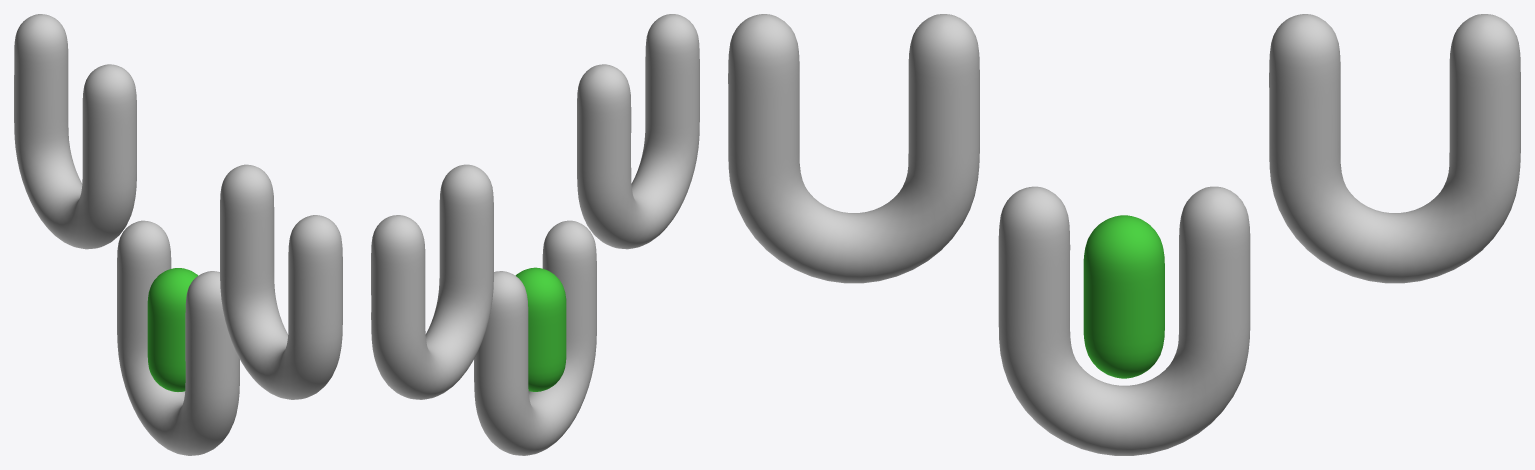
The model's file is Head8.fbx.
The picture shows the model from 3 angles, left to right: view 1: azimuth 30°, elevation 25°; view 2: azimuth 150°, elevation 25°; view 3: azimuth 270°, elevation 25°; orthographic projection. The views are drawn at different scales.
Parts seen in each view (by area): view 1: Head8U1, Head8U3, Head8U2, Head8Capsule; view 2: Head8U1, Head8U3, Head8U2, Head8Capsule; view 3: Head8U1, Head8U3, Head8U2, Head8Capsule.
Part boxes in pixels (x1=…): Head8U1: x1=14, y1=14, x2=136, y2=249; Head8U3: x1=220, y1=164, x2=342, y2=399; Head8U2: x1=117, y1=220, x2=239, y2=455; Head8Capsule: x1=147, y1=268, x2=198, y2=391; Head8U1: x1=371, y1=164, x2=493, y2=399; Head8U3: x1=577, y1=14, x2=699, y2=249; Head8U2: x1=474, y1=220, x2=596, y2=455; Head8Capsule: x1=515, y1=267, x2=566, y2=391; Head8U1: x1=1269, y1=14, x2=1520, y2=283; Head8U3: x1=728, y1=14, x2=979, y2=283; Head8U2: x1=998, y1=186, x2=1250, y2=455; Head8Capsule: x1=1083, y1=215, x2=1164, y2=378.
Size of the model in its own units: 20.57 by 121 by 200.
